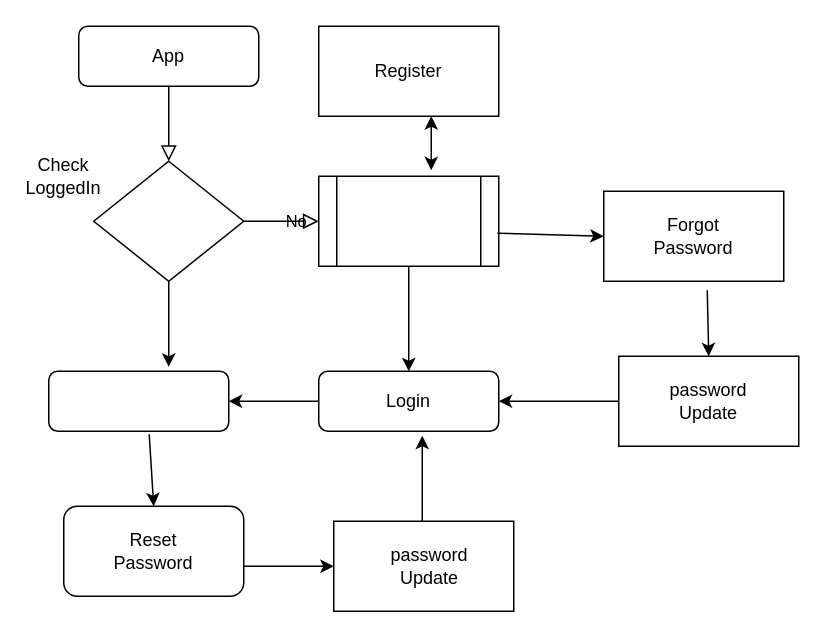
This 825x638 diagram has some shape labels left out. The centre of each missing label's shape, as x and y in pixels:
"Home" goes at point (138, 400).
"Is LoggedIn" goes at point (168, 220).
"LoggedIn" goes at point (408, 220).
